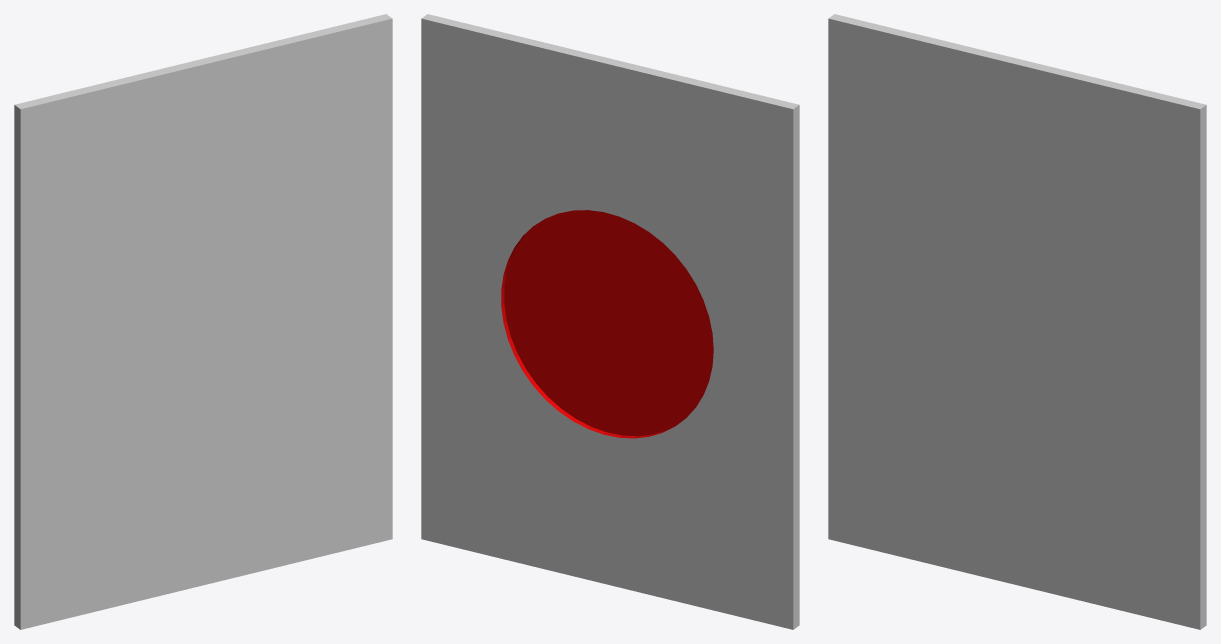
Rendered from red_circle.dae.
3 views of the same model, side by side, from view 1: azimuth 30°, elevation 25°; view 2: azimuth 150°, elevation 25°; view 3: azimuth 330°, elevation 25° (orthographic).
Visible parts, largest first — view 1: ShapeIndexedFaceSet; view 2: ShapeIndexedFaceSet; view 3: ShapeIndexedFaceSet.
Part boxes in pixels (bbox=[...]): ShapeIndexedFaceSet: bbox=[14, 14, 392, 629]; ShapeIndexedFaceSet: bbox=[421, 14, 799, 629]; ShapeIndexedFaceSet: bbox=[828, 14, 1206, 629].
Size of the model in its own units: 1.75 by 0.0508 by 2.34.
